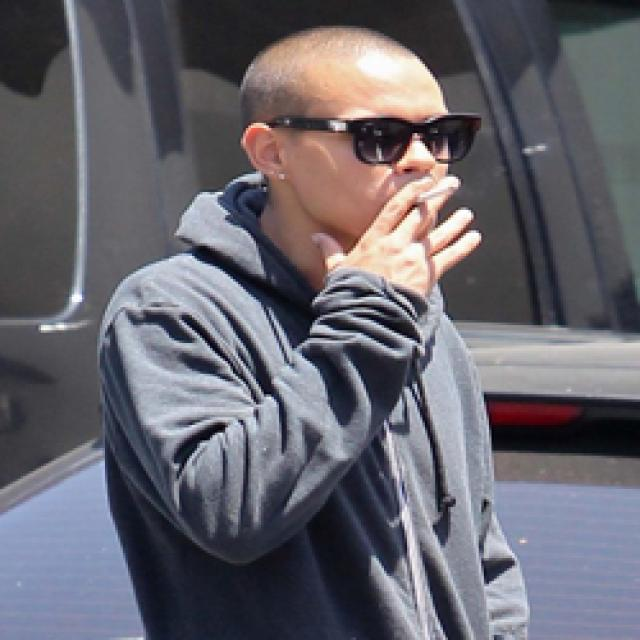Smooking: (416, 175, 470, 207)
